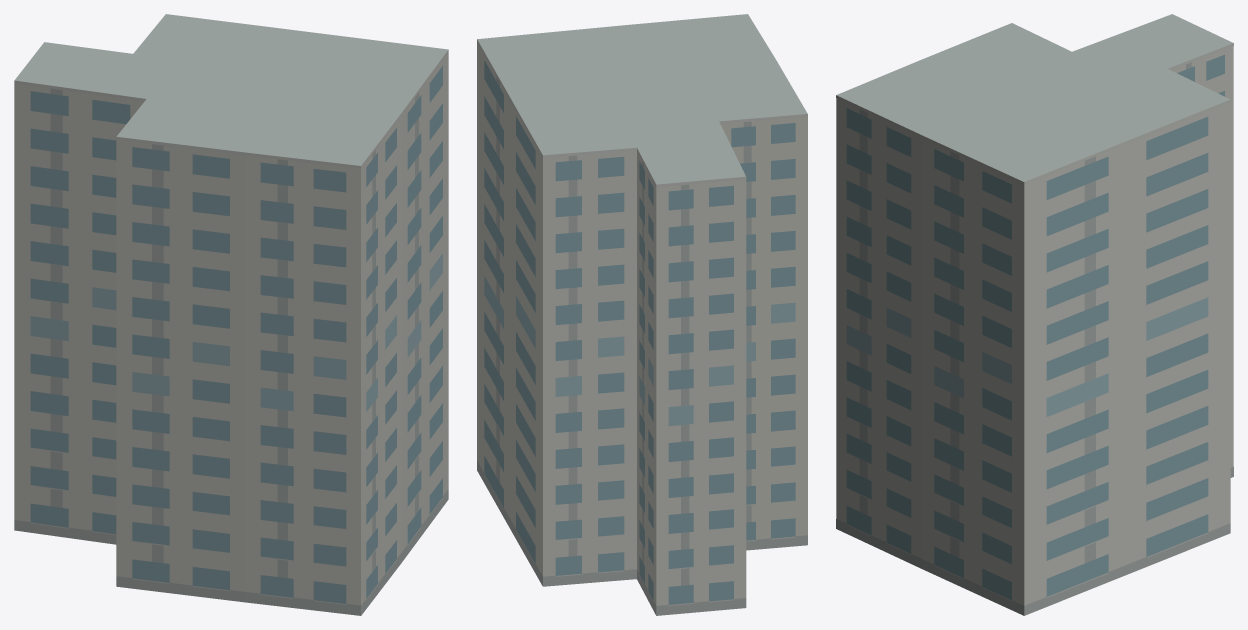
Rendered from survey-upis-32591783.glb.
3 renders of one model, left to right at view 1: azimuth 30°, elevation 25°; view 2: azimuth 150°, elevation 25°; view 3: azimuth 270°, elevation 25°, orthographic. The views are drawn at different scales.
Parts seen in each view (by area): view 1: survey-upis-32591783.tmp; view 2: survey-upis-32591783.tmp; view 3: survey-upis-32591783.tmp.
Boxes of the visible parts, <box> form: survey-upis-32591783.tmp: <box>14,14,448,615</box>; survey-upis-32591783.tmp: <box>477,14,807,615</box>; survey-upis-32591783.tmp: <box>836,14,1233,615</box>.
Size of the model in its own units: 30.44 by 36.6 by 30.41.
